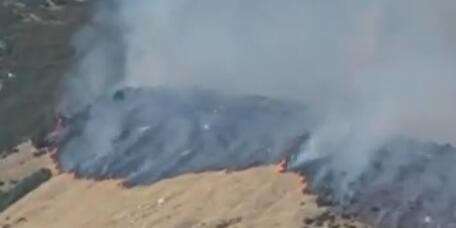yanwu: (49, 1, 454, 185)
